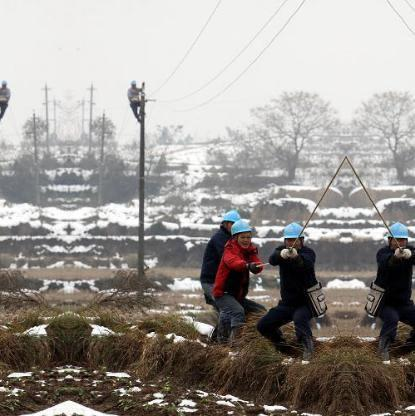helmet: (279, 220, 308, 243), (228, 220, 256, 238), (220, 208, 242, 228)
